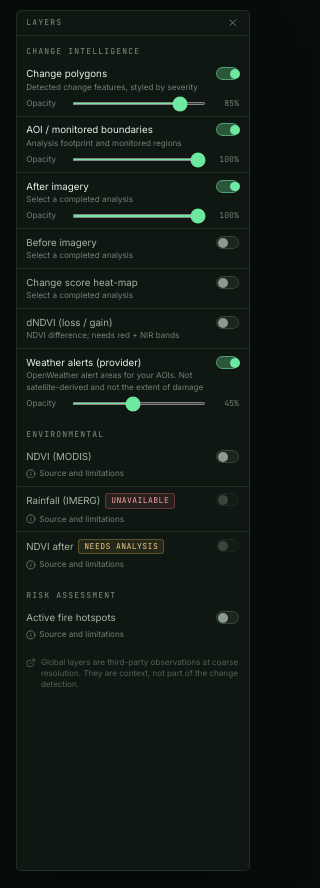
Test case: LayerPanel › toggling a layer updates shared state and reveals opacity + legend
Click the switch named "Toggle NDVI (MODIS)": (227, 456) [216, 450, 239, 463]
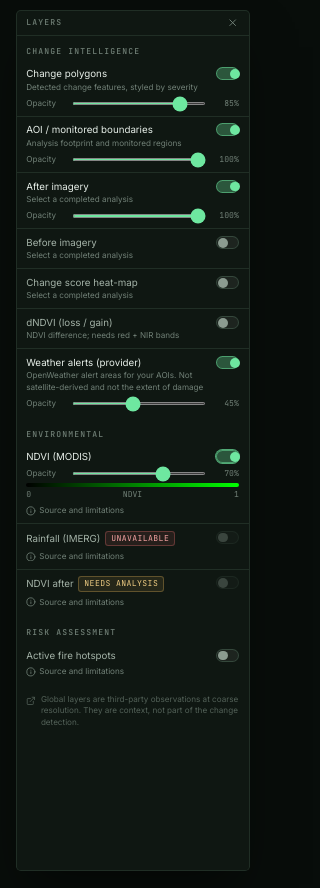
Expected: the slider named "NDVI (MODIS) opacity" is shown, [72, 472, 206, 475]
